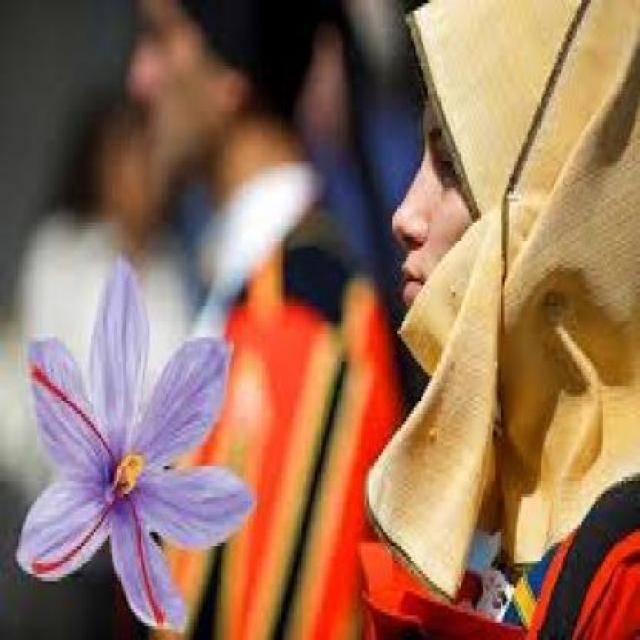saffron open: (20, 259, 246, 612)
